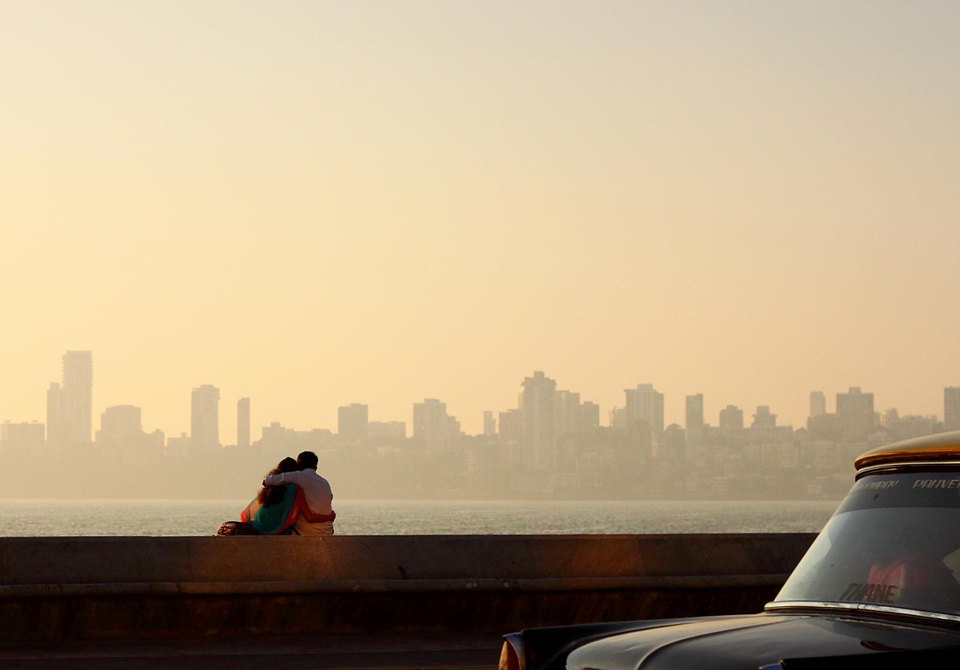airplane: (324, 431, 935, 667)
backpack: (233, 463, 335, 538), (287, 472, 338, 537), (249, 482, 300, 535), (295, 511, 337, 535), (215, 519, 257, 535)
bench: (0, 513, 801, 670), (5, 527, 354, 648)
bicycle: (324, 431, 935, 667)
bird: (218, 450, 334, 537)
boat: (0, 445, 918, 670), (487, 436, 952, 670), (0, 519, 646, 663), (167, 516, 575, 631), (30, 417, 291, 504), (39, 419, 196, 489)
bottle: (768, 427, 959, 647)
bowl: (770, 429, 959, 644)
bus: (543, 437, 959, 670)
car: (32, 441, 941, 670), (487, 436, 952, 670), (713, 440, 953, 663), (536, 580, 942, 670)
clock: (772, 428, 959, 641)
cup: (768, 427, 959, 647)
dog: (216, 448, 333, 538), (215, 519, 261, 536)
fork: (838, 581, 898, 604)
handbag: (287, 472, 338, 537), (249, 482, 300, 535), (295, 512, 337, 535)
horse: (228, 448, 333, 536)
knife: (824, 563, 959, 625), (838, 582, 899, 605)
microwave: (770, 429, 959, 644)
motorcycle: (333, 422, 959, 670)
oven: (770, 429, 959, 644)
person: (333, 422, 959, 670), (220, 448, 332, 536), (273, 450, 337, 537), (253, 455, 322, 527), (222, 483, 296, 536), (249, 487, 321, 535), (302, 459, 340, 536), (293, 445, 334, 513), (245, 473, 287, 531), (257, 476, 298, 517), (260, 456, 300, 494), (268, 452, 317, 477), (267, 455, 298, 477), (295, 450, 319, 472)
sheep: (216, 448, 333, 538)
sink: (770, 429, 959, 644)
skateboard: (324, 431, 935, 667)
spoon: (811, 593, 958, 648), (826, 562, 957, 622), (838, 581, 898, 604)
surfboard: (215, 519, 254, 535)
toaster: (770, 429, 959, 644)
train: (333, 422, 959, 670)
truck: (32, 441, 941, 670), (487, 436, 952, 670), (713, 440, 953, 663)
umbrella: (248, 451, 337, 534)
